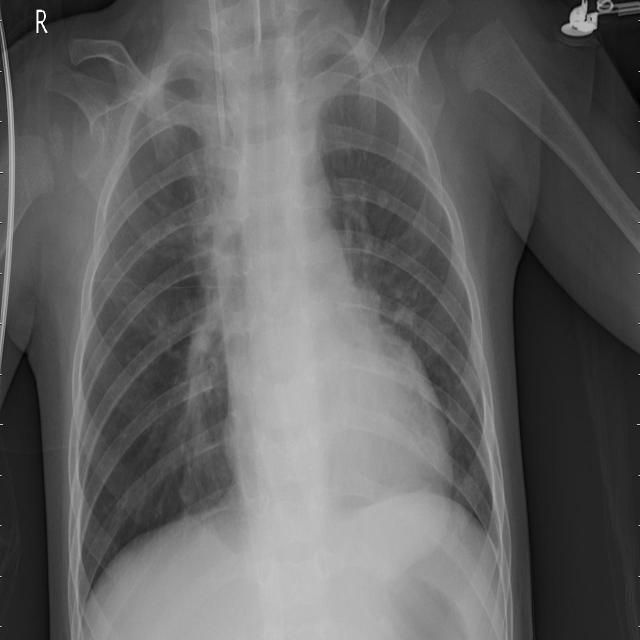low-pneumonia: (180, 150, 232, 500)
